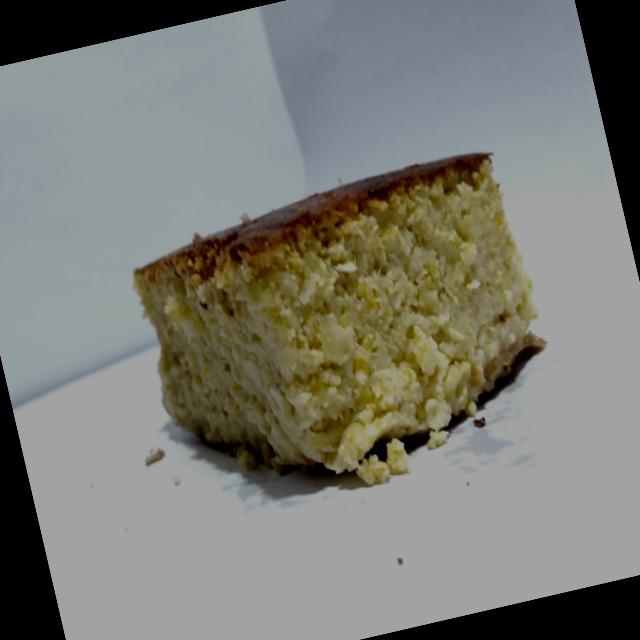Chipa_Guazu: (102, 118, 574, 532)
